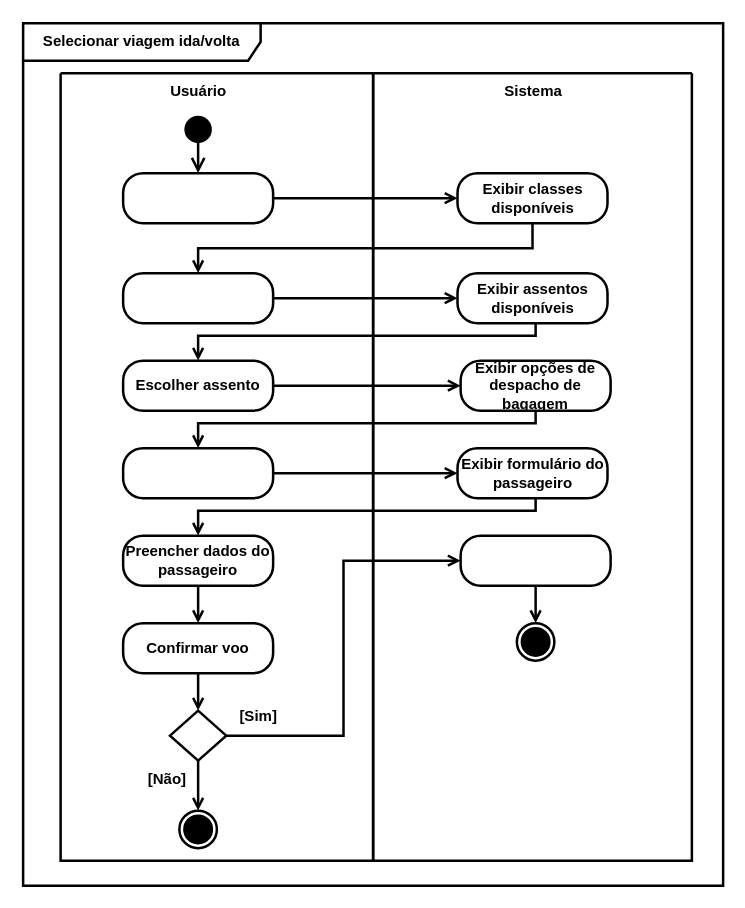
Image size: 745x908. Some labels were removed from this diagram. The shapes that lost their labels are listed below. From the top down, each one's centre as x and y in pixels, then its label:
(x=197, y=197): Selecionar voo
(x=197, y=297): Escolher classe
(x=197, y=472): Escolher despacho de bagagem
(x=535, y=560): Exibir resumo da viagem
